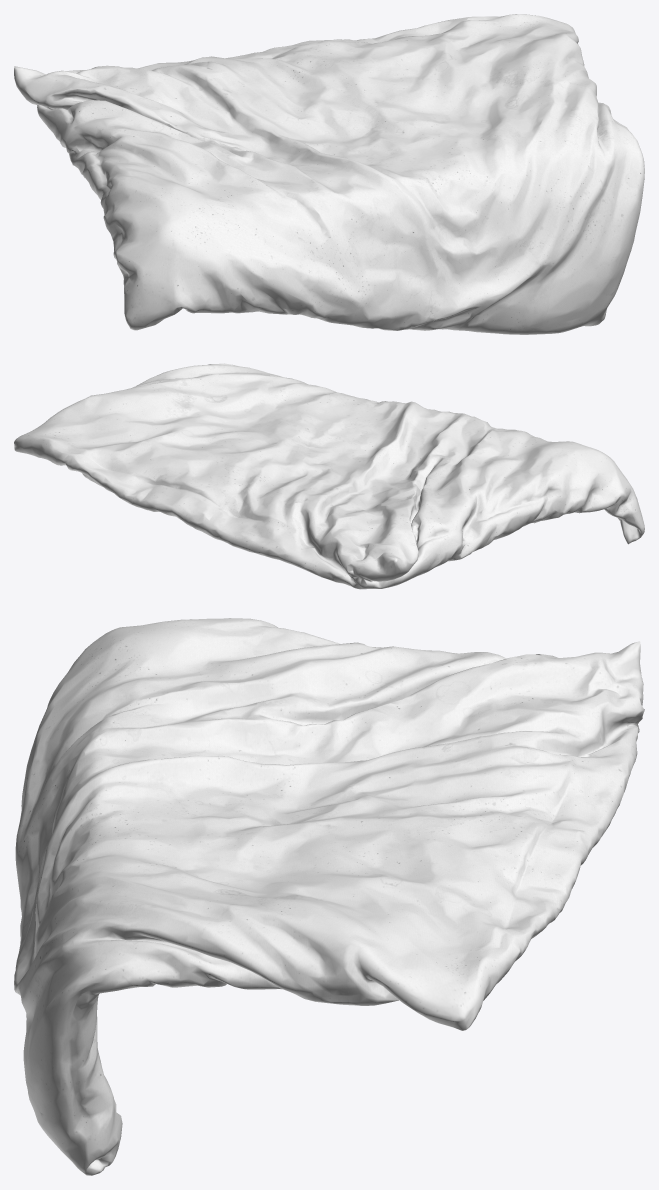
Rendered from SM_Duvet.fbx.
3 views of the same model, one above another, from view 1: azimuth 30°, elevation 25°; view 2: azimuth 150°, elevation 25°; view 3: azimuth 270°, elevation 25° (orthographic). The views are drawn at different scales.
Visible parts, largest first — view 1: SM_Duvet_LOD0; view 2: SM_Duvet_LOD0; view 3: SM_Duvet_LOD0.
Boxes of the visible parts, box(x1,y1,x2,y2) form: SM_Duvet_LOD0: box(14, 14, 644, 334); SM_Duvet_LOD0: box(14, 363, 644, 589); SM_Duvet_LOD0: box(14, 618, 644, 1175).
Bounding box in the file's own units: 308 × 213 × 107.
1 material, 1 textured.
